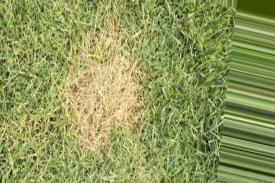patch: (61, 23, 144, 159)
